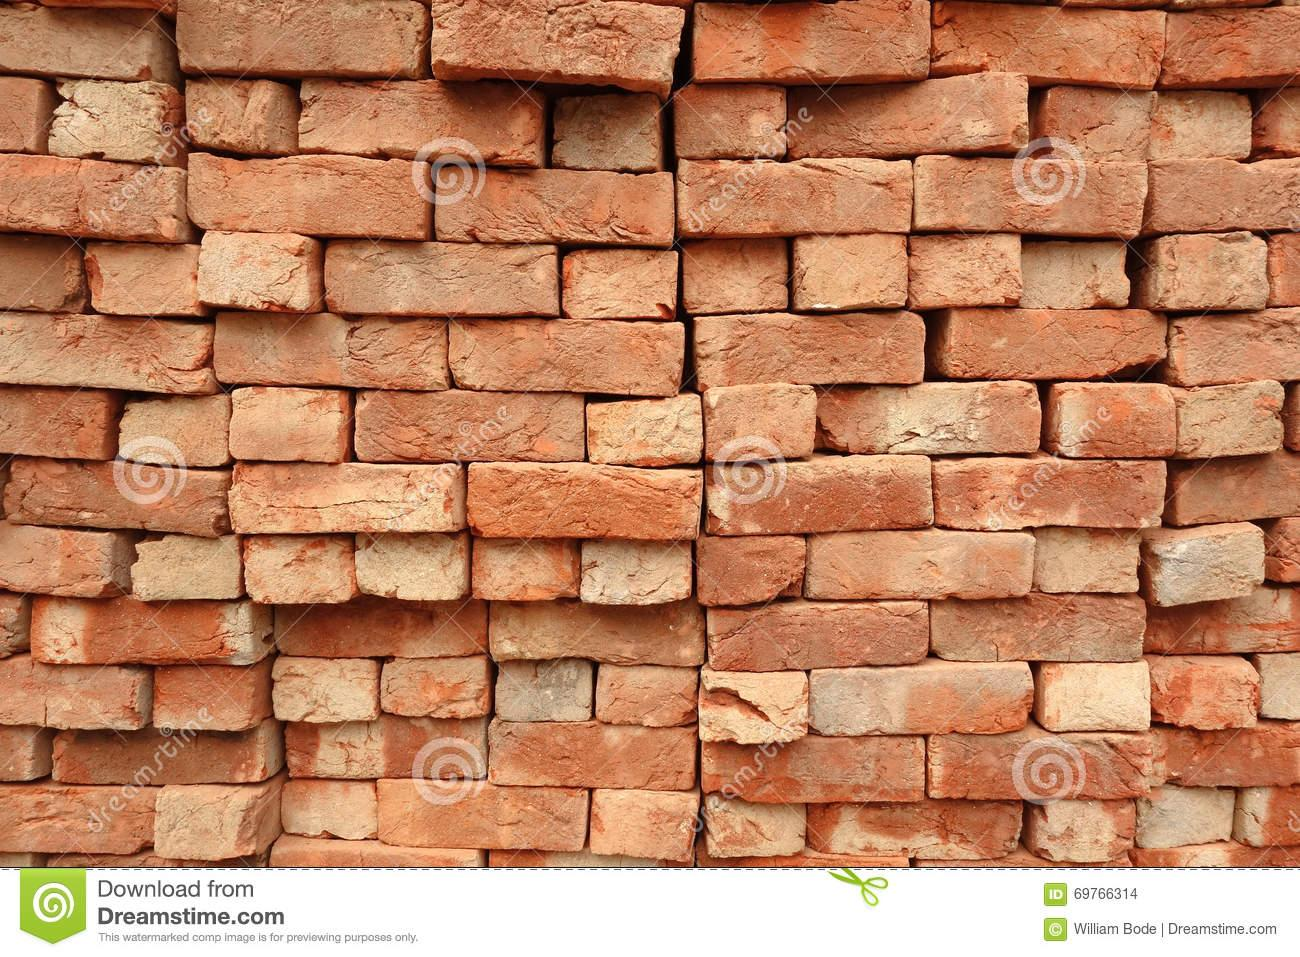brick: (787, 72, 1027, 156), (433, 0, 683, 81), (187, 153, 427, 236), (934, 2, 1166, 86), (299, 81, 538, 162), (707, 454, 935, 537), (913, 157, 1146, 237), (679, 156, 912, 234), (695, 0, 929, 78), (435, 168, 673, 243), (215, 313, 449, 390), (451, 320, 683, 397), (177, 0, 424, 72), (692, 313, 925, 389), (467, 464, 702, 538), (326, 240, 556, 313), (936, 457, 1166, 530), (5, 461, 223, 538), (355, 390, 584, 462), (229, 460, 455, 533), (0, 314, 213, 391), (818, 384, 1041, 454), (810, 665, 1034, 736), (489, 719, 697, 792), (947, 308, 1167, 378), (808, 530, 1034, 598), (709, 603, 930, 671), (375, 780, 587, 851), (30, 596, 251, 663), (932, 594, 1147, 662), (489, 601, 706, 667), (1, 153, 178, 235), (702, 738, 925, 802), (927, 735, 1152, 796), (807, 800, 1021, 859), (288, 719, 486, 779), (0, 4, 152, 79), (273, 602, 486, 654), (51, 729, 263, 781), (1148, 158, 1300, 231), (1, 785, 158, 854), (1163, 6, 1300, 79), (1173, 306, 1300, 384), (0, 660, 139, 729), (46, 81, 164, 162), (1148, 591, 1300, 652), (1153, 724, 1300, 786), (200, 230, 313, 310), (1178, 451, 1300, 524), (1153, 529, 1266, 606), (1156, 235, 1268, 311), (795, 234, 908, 309), (1061, 384, 1176, 456), (1, 522, 112, 597), (186, 79, 296, 153), (1177, 381, 1285, 456), (586, 395, 701, 465), (229, 389, 342, 460), (707, 387, 816, 460), (674, 86, 786, 157), (910, 235, 1022, 307), (698, 672, 809, 744), (552, 96, 659, 168), (682, 240, 787, 313), (564, 250, 678, 317), (591, 788, 697, 860), (0, 390, 109, 459), (119, 395, 228, 464), (1151, 660, 1260, 730), (87, 244, 197, 313), (696, 537, 806, 606), (1040, 87, 1147, 156), (1020, 240, 1130, 308), (1145, 90, 1253, 158), (1043, 663, 1151, 732), (245, 537, 354, 604), (581, 539, 691, 604), (354, 536, 463, 600), (154, 791, 255, 859), (131, 536, 238, 599), (598, 663, 698, 728), (0, 236, 85, 313), (1035, 530, 1140, 592), (381, 658, 488, 718), (473, 539, 578, 600), (275, 659, 375, 722), (1035, 802, 1134, 864), (702, 796, 805, 857), (152, 666, 250, 730), (496, 657, 593, 720), (282, 781, 378, 839), (1140, 788, 1233, 847), (1239, 789, 1300, 845)
